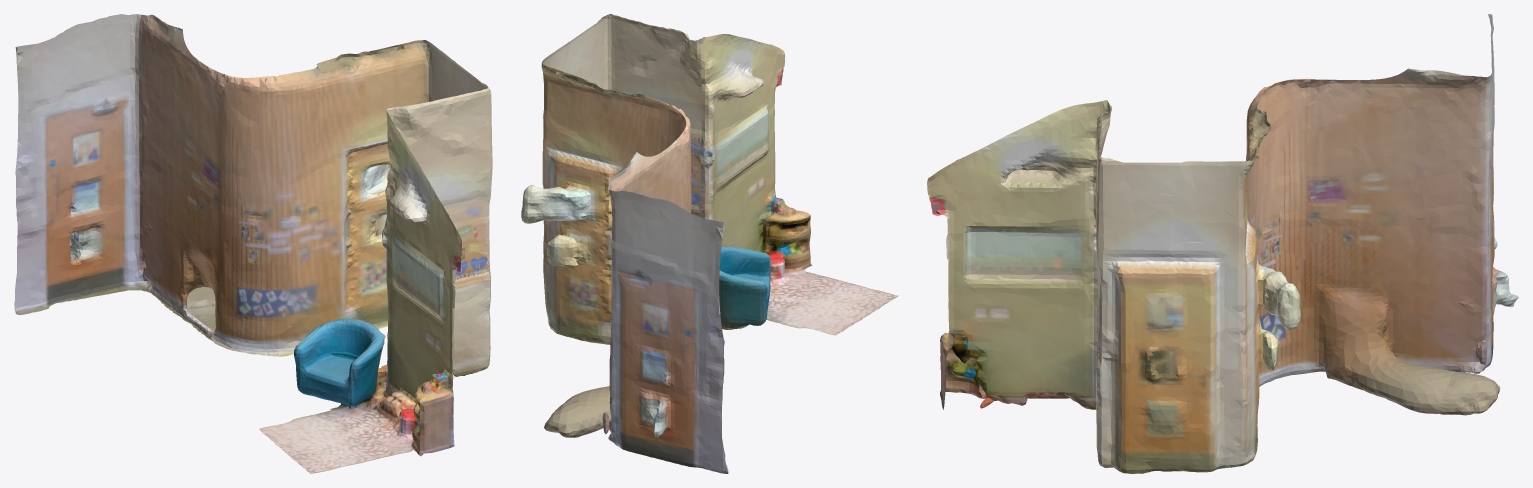
Rendered from Door corner.fbx.
3 views of the same model, side by side, from view 1: azimuth 30°, elevation 25°; view 2: azimuth 150°, elevation 25°; view 3: azimuth 270°, elevation 25° (orthographic). The views are drawn at different scales.
Visible parts, largest first — view 1: textured; view 2: textured; view 3: textured.
Boxes of the visible parts, left/top/right/bottom form: textured: left=14, top=14, right=492, bottom=473; textured: left=521, top=14, right=898, bottom=473; textured: left=927, top=14, right=1518, bottom=473.
Bounding box in the file's own units: 362 × 315 × 532.
